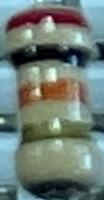Black: (8, 44, 92, 73)
Orange: (19, 80, 89, 108)
Red: (4, 10, 94, 32)
Side-Gold: (17, 120, 95, 150)
